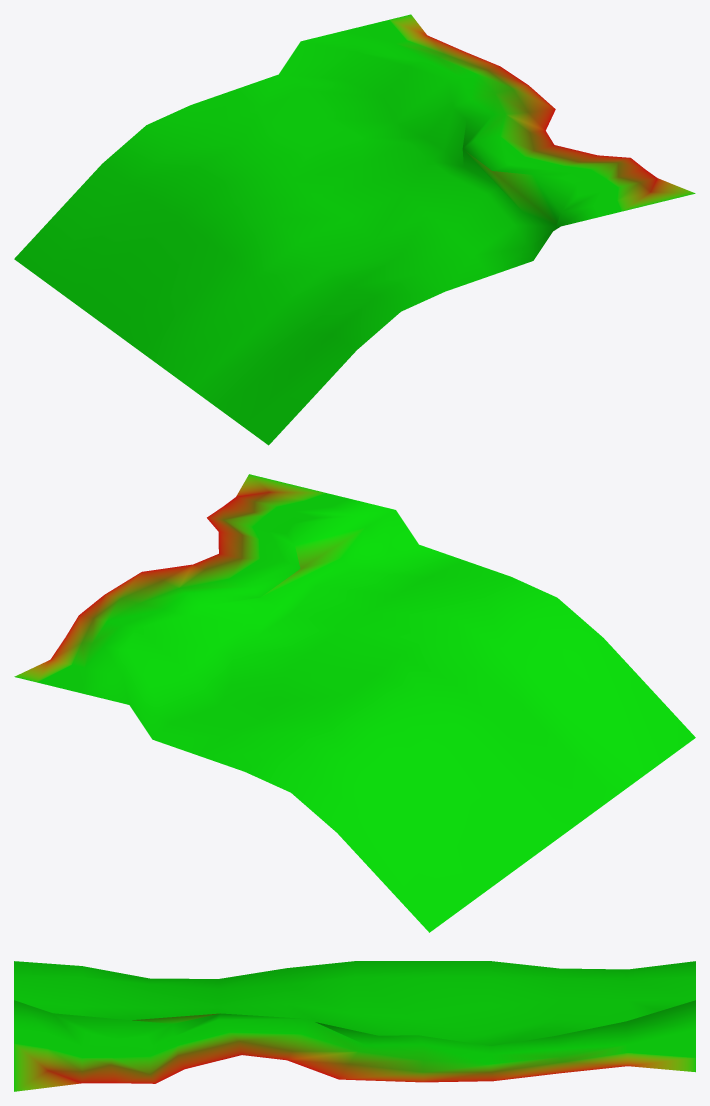
File: Section_WayLine01_CoastMountains_Terrain.fbx
3 renders of one model, top to bottom at view 1: azimuth 30°, elevation 25°; view 2: azimuth 150°, elevation 25°; view 3: azimuth 270°, elevation 25°, orthographic. The views are drawn at different scales.
Parts seen in each view (by area): view 1: Section_WayLine01_CoastMountains_Terrain; view 2: Section_WayLine01_CoastMountains_Terrain; view 3: Section_WayLine01_CoastMountains_Terrain.
Boxes of the visible parts, x1,y1,x2,y2 form: Section_WayLine01_CoastMountains_Terrain: (14, 14, 695, 445); Section_WayLine01_CoastMountains_Terrain: (14, 474, 695, 932); Section_WayLine01_CoastMountains_Terrain: (14, 961, 695, 1091).
Size of the model in its own units: 4841 by 1604 by 5000.
